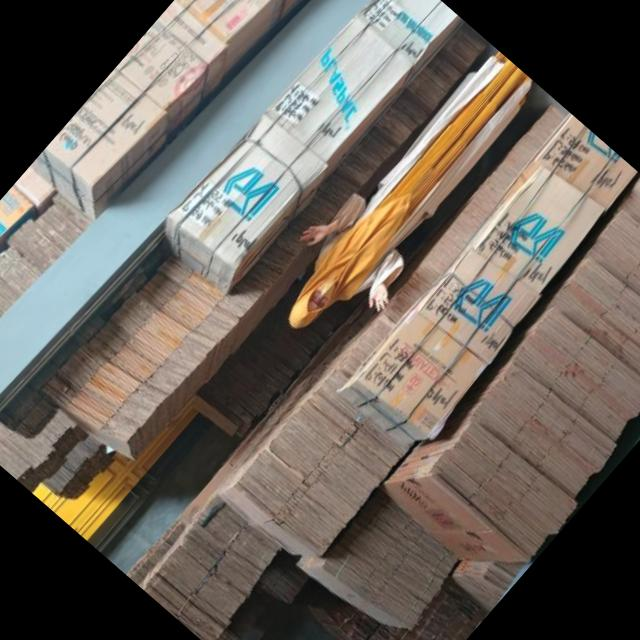Kardus: (381, 181, 640, 595), (335, 116, 640, 450), (154, 0, 462, 295), (31, 0, 362, 229), (42, 246, 257, 468), (220, 380, 406, 569)
